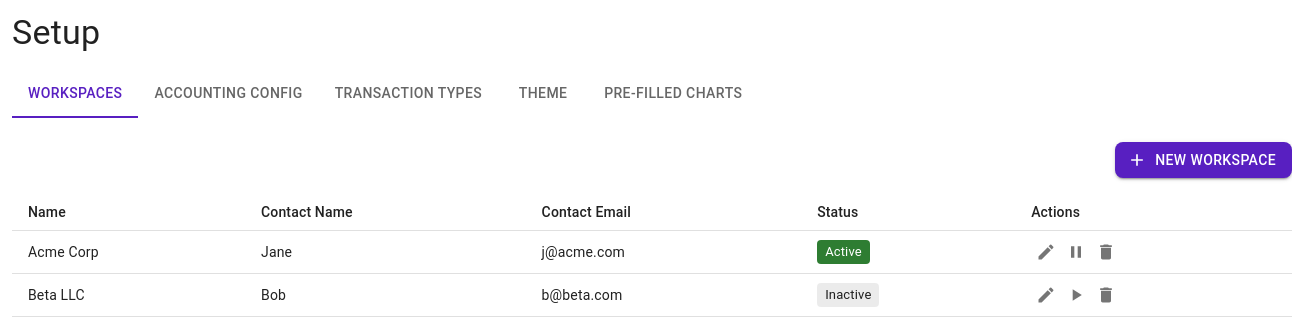
SetupPage — tab navigation › switches to Transaction Types tab
Click the tab with test id "tab-transaction-types" at (408, 94), box [319, 70, 498, 118]
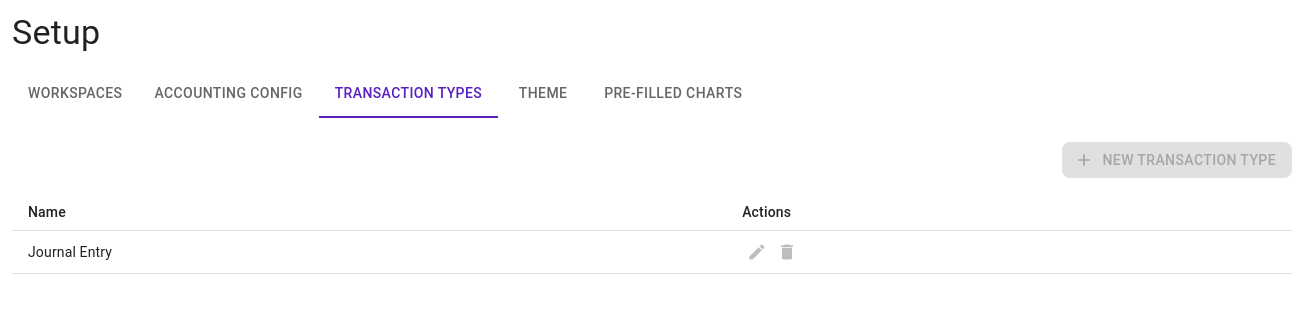
Expected: the table with test id "tt-table" is shown, [12, 194, 1292, 274]
